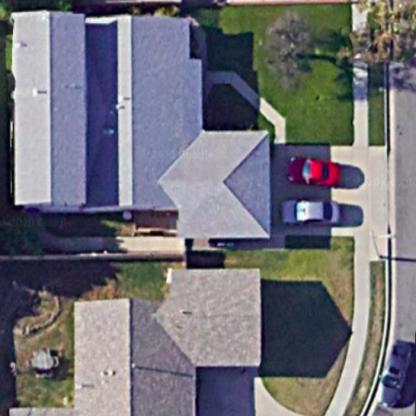car: (378, 333, 416, 407), (280, 152, 345, 191), (275, 191, 347, 226)
